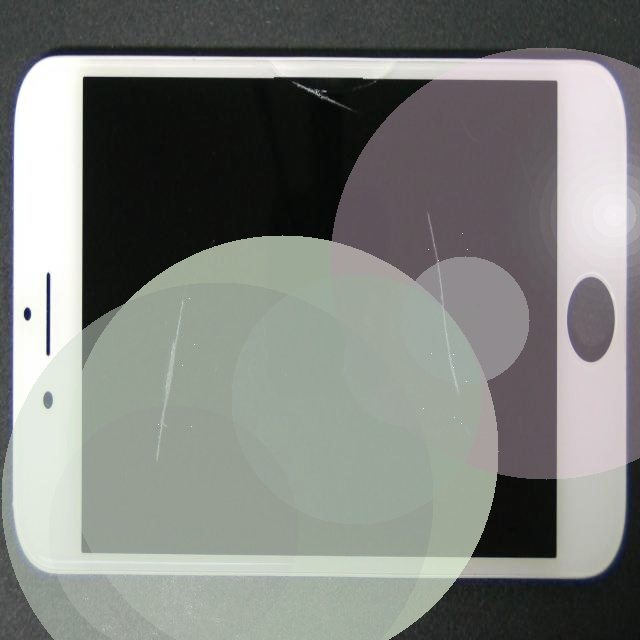scratch: (184, 33, 640, 460), (69, 235, 208, 640), (189, 40, 463, 117)
